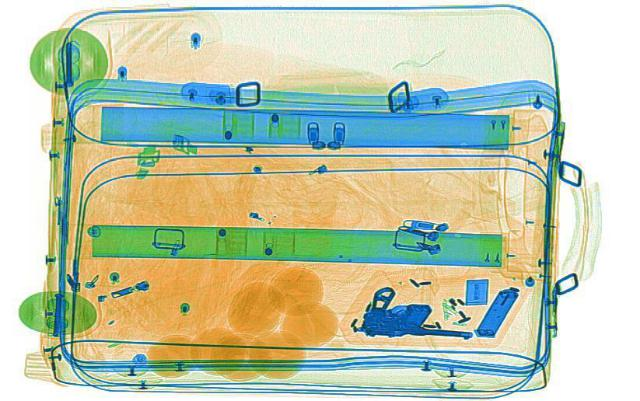Gun: (352, 281, 486, 347)
